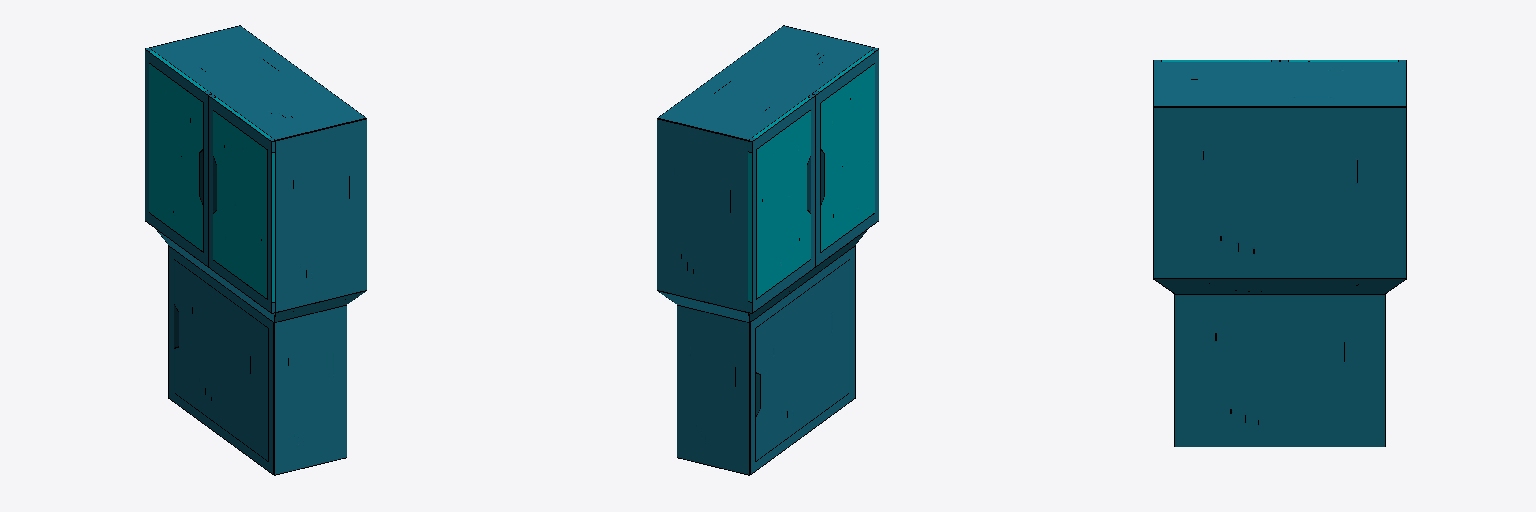
The picture shows the model from 3 angles: view 1: azimuth 30°, elevation 25°; view 2: azimuth 150°, elevation 25°; view 3: azimuth 270°, elevation 25°; orthographic projection.
Visible parts, largest first — view 1: Box004, Box002, Box017, Box007, Box006, Box003; view 2: Box004, Box002, Box017, Box006, Box007, Box003; view 3: Box004, Box002, Box003.
Boxes of the visible parts, x1=… form: Box004: x1=149, y1=25, x2=366, y2=312; Box002: x1=168, y1=245, x2=346, y2=475; Box017: x1=174, y1=259, x2=268, y2=461; Box007: x1=208, y1=94, x2=275, y2=313; Box006: x1=145, y1=48, x2=210, y2=266; Box003: x1=157, y1=230, x2=365, y2=321; Box004: x1=657, y1=25, x2=874, y2=312; Box002: x1=677, y1=245, x2=855, y2=475; Box017: x1=755, y1=259, x2=849, y2=461; Box006: x1=748, y1=94, x2=815, y2=313; Box007: x1=813, y1=48, x2=878, y2=266; Box003: x1=658, y1=230, x2=866, y2=321; Box004: x1=1153, y1=62, x2=1406, y2=278; Box002: x1=1174, y1=294, x2=1385, y2=446; Box003: x1=1153, y1=279, x2=1406, y2=293.
Bounding box in the file's own units: 20.47 × 70.87 × 47.24.
Materials: 3 (3 with a texture image).